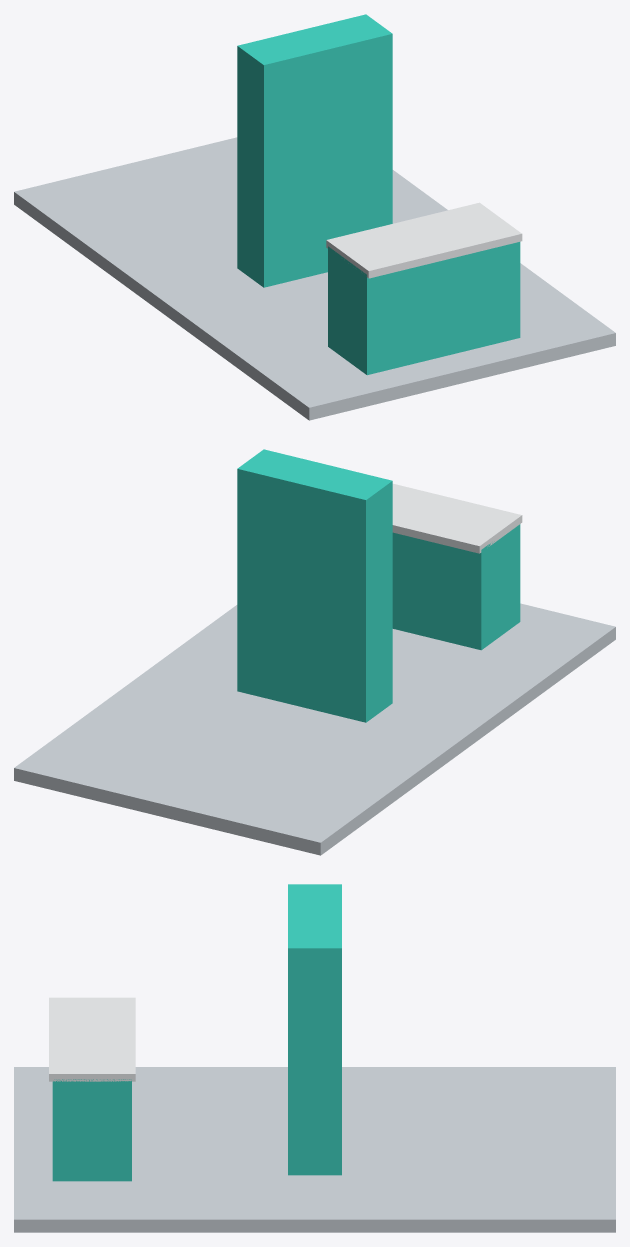
The picture shows the model from 3 angles, top to bottom: view 1: azimuth 30°, elevation 25°; view 2: azimuth 150°, elevation 25°; view 3: azimuth 270°, elevation 25°; orthographic projection.
Parts seen in each view (by area): view 1: Exhibition Booth Concept; view 2: Exhibition Booth Concept; view 3: Exhibition Booth Concept.
Boxes of the visible parts, x1,y1,x2,y2 form: Exhibition Booth Concept: [14, 14, 615, 420]; Exhibition Booth Concept: [14, 449, 615, 855]; Exhibition Booth Concept: [14, 884, 615, 1232].
Bounding box in the file's own units: 3 × 2.2 × 5.
